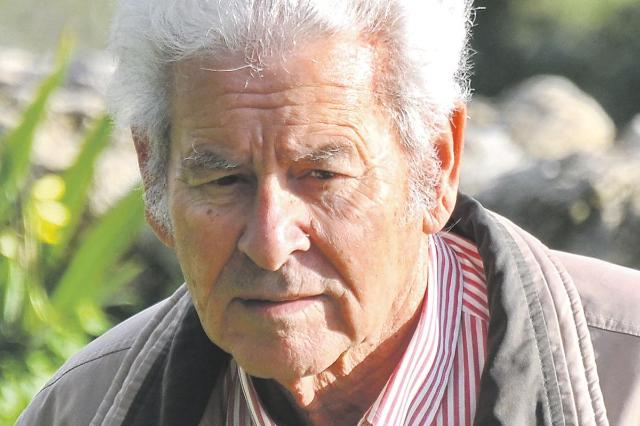forehead: (225, 84, 297, 116), (338, 116, 372, 160)
frown_line: (243, 134, 285, 168)
gummy_smile: (314, 242, 348, 290), (215, 228, 241, 287)
